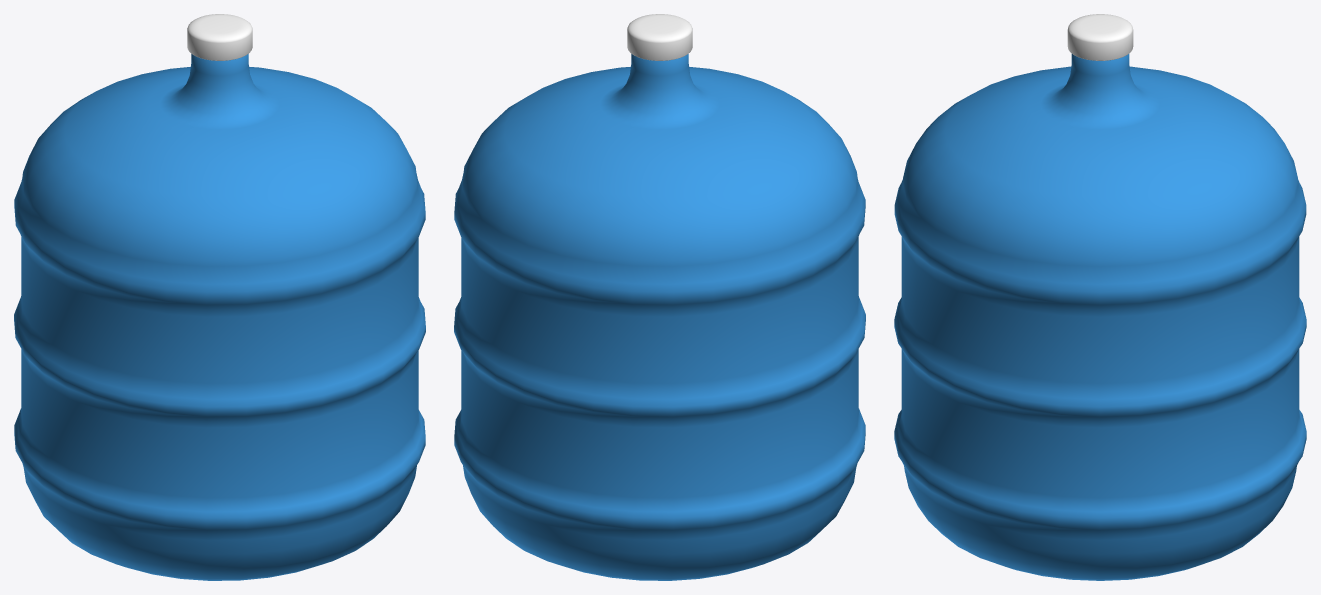
File: galon.fbx
The picture shows the model from 3 angles, left to right: view 1: azimuth 30°, elevation 25°; view 2: azimuth 150°, elevation 25°; view 3: azimuth 270°, elevation 25°; orthographic projection.
Visible parts, largest first — view 1: Cylinder; view 2: Cylinder; view 3: Cylinder.
Part boxes in pixels (bbox=[...]): Cylinder: bbox=[14, 14, 425, 580]; Cylinder: bbox=[454, 14, 865, 580]; Cylinder: bbox=[894, 14, 1306, 580].
Size of the model in its own units: 49.77 by 65.89 by 49.77.
